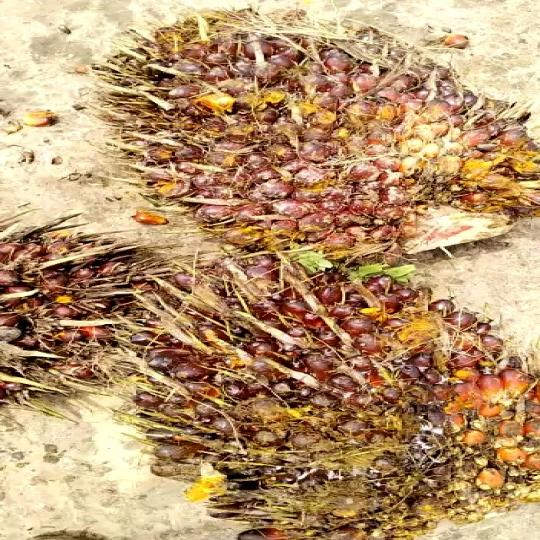masak: (74, 0, 540, 279), (115, 258, 534, 540), (0, 208, 189, 412)
